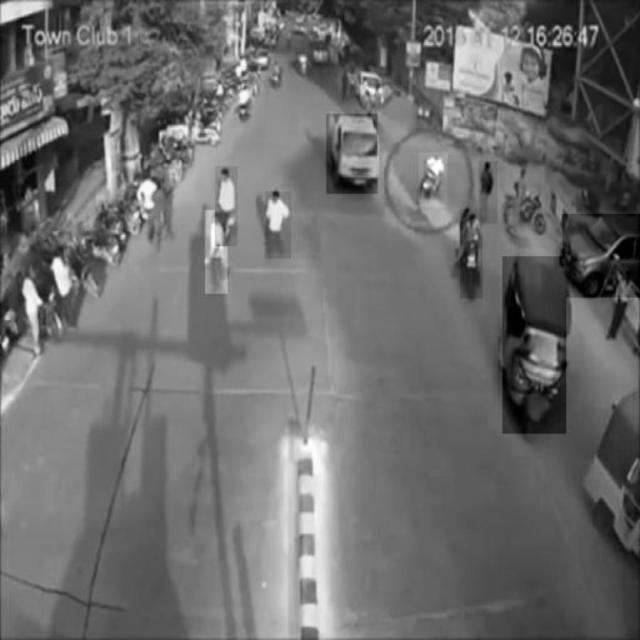person: (206, 210, 228, 293), (216, 166, 238, 246), (265, 191, 291, 258), (479, 163, 497, 225)
vehicle: (502, 257, 566, 434), (563, 214, 640, 297), (327, 114, 378, 194), (506, 168, 544, 238), (461, 209, 483, 299), (419, 153, 447, 208)
